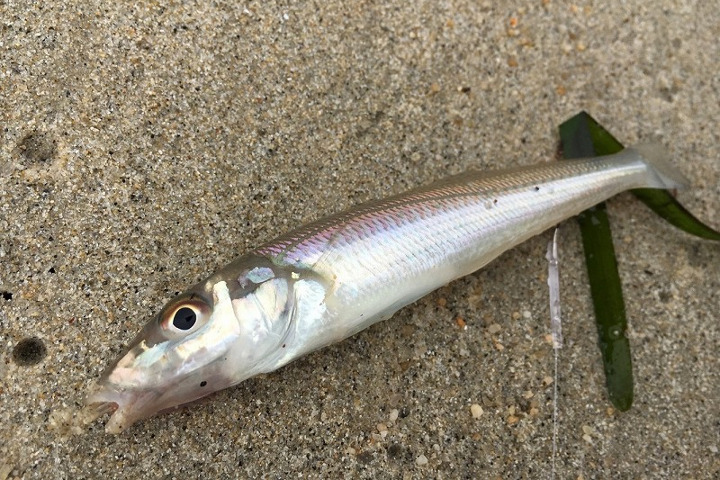kiss: (83, 138, 677, 448)
